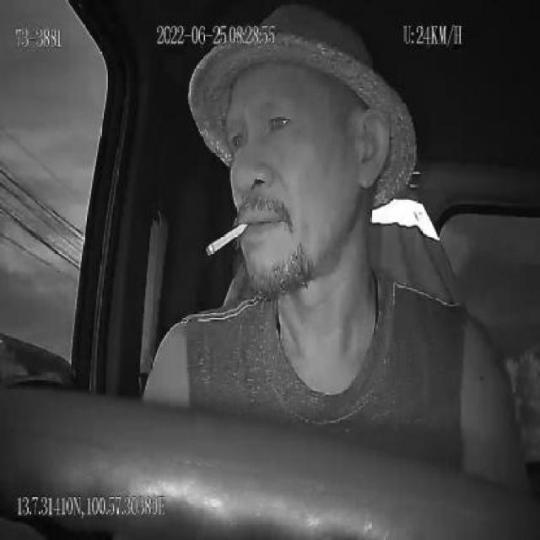smoking: (208, 222, 248, 255)
